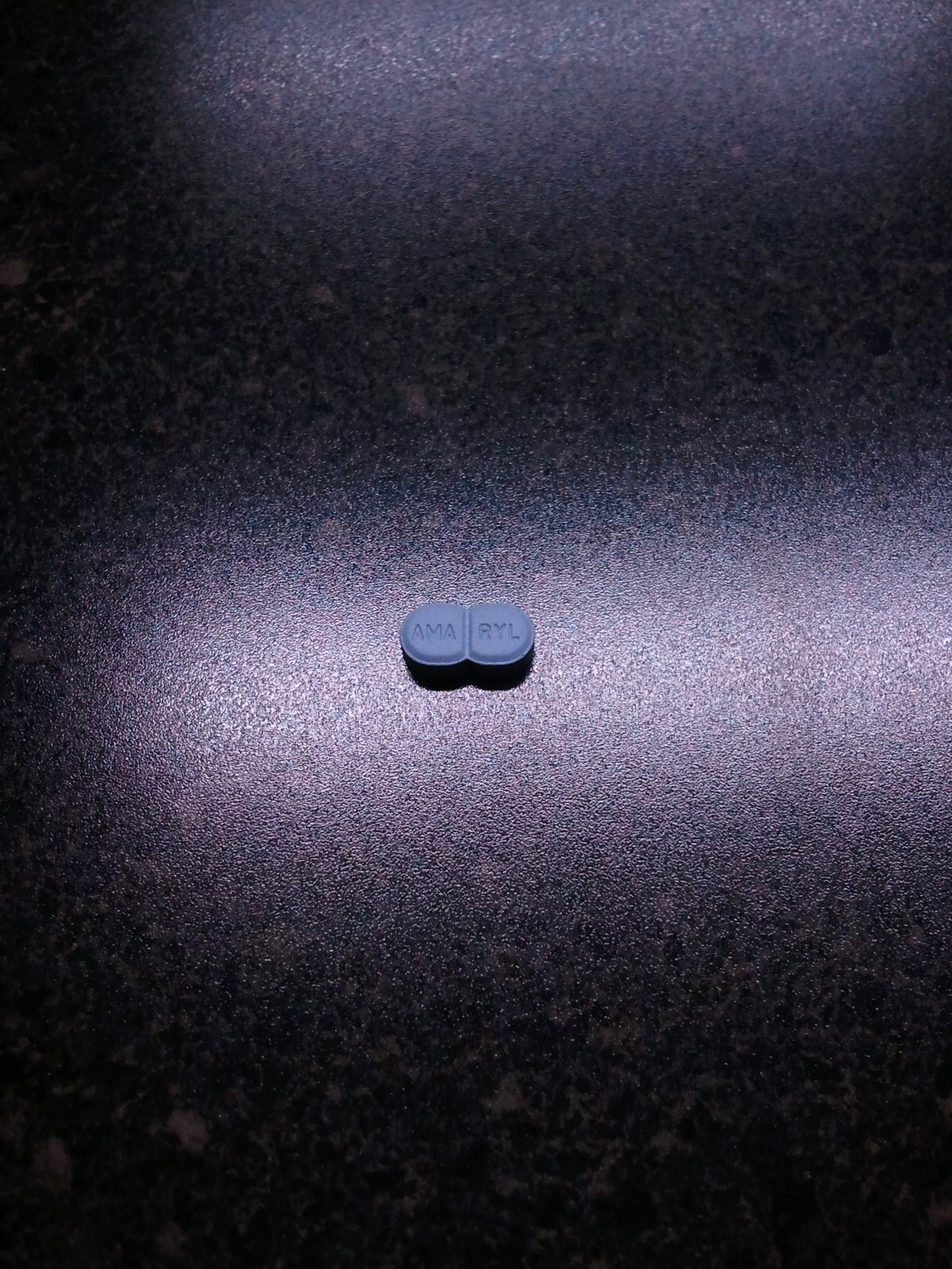Pill: (382, 577, 548, 699)
